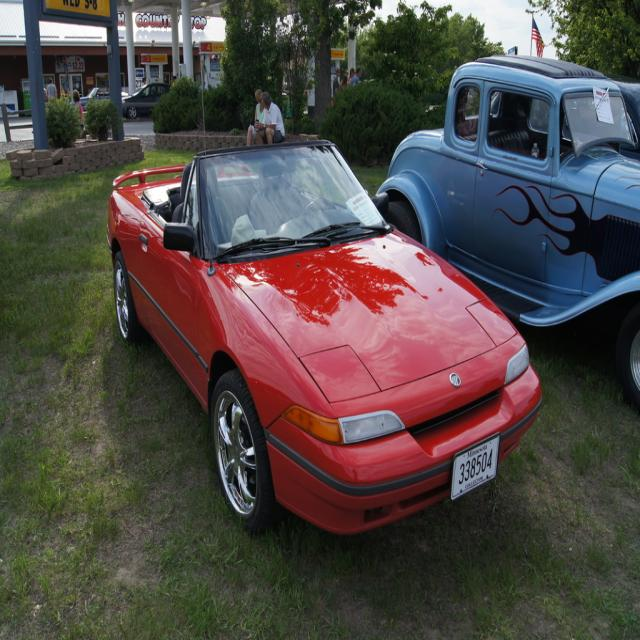car: (103, 49, 543, 535)
